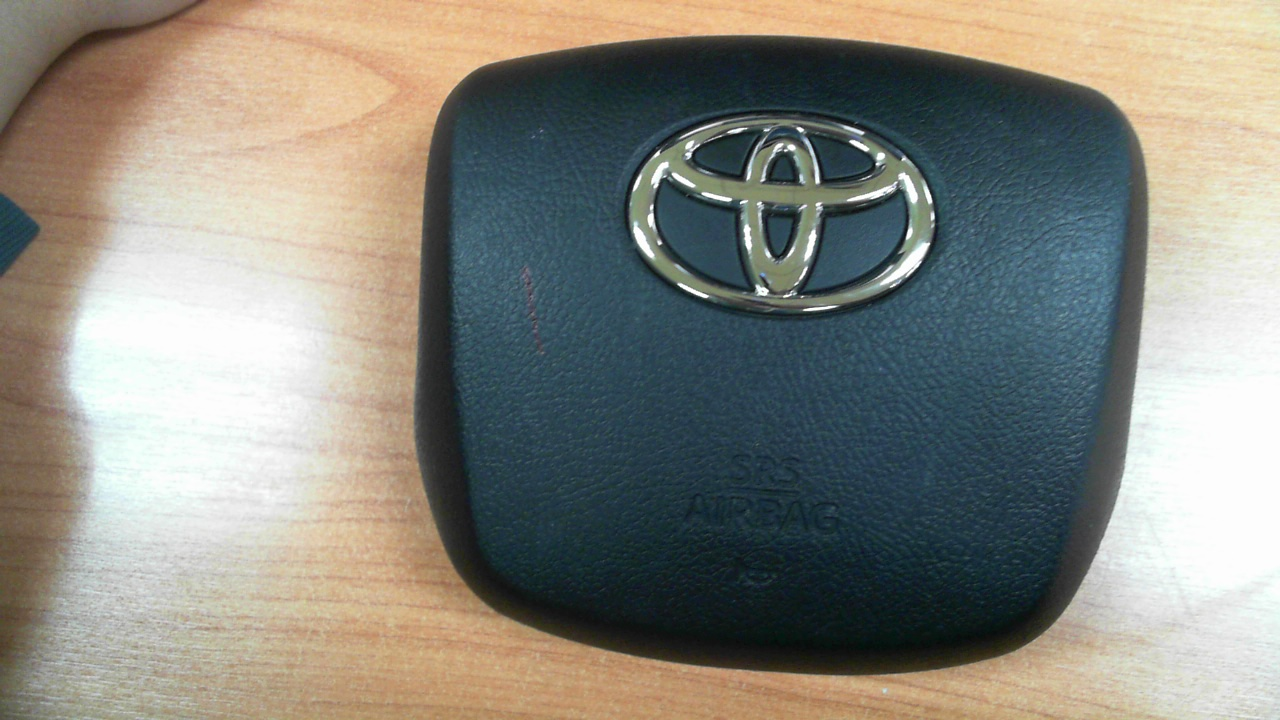Airbag: (412, 33, 1151, 677)
Toyota: (628, 115, 937, 315)
